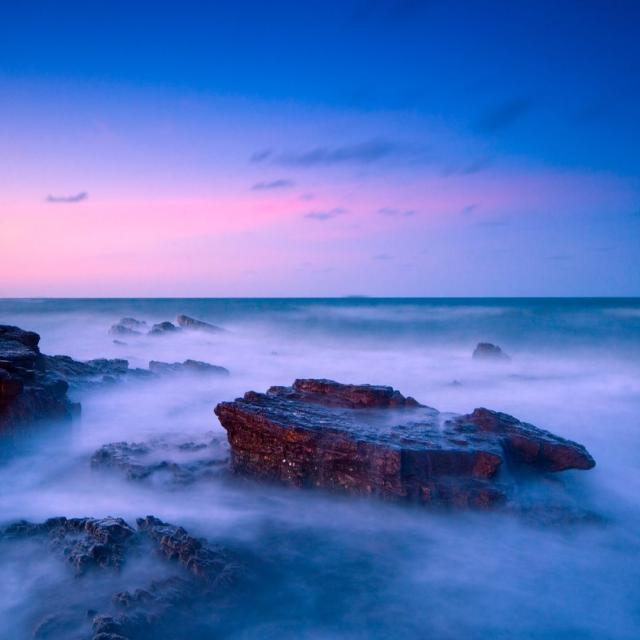reef: (201, 375, 594, 545)
